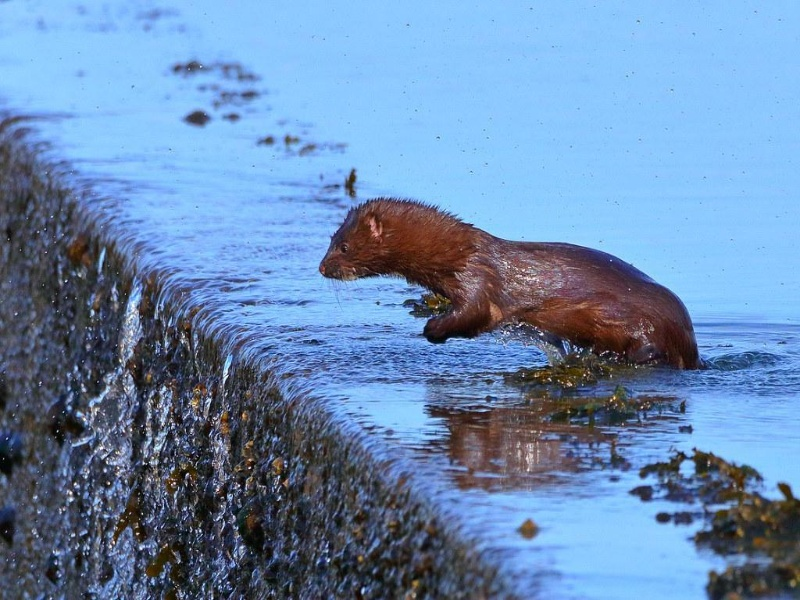minkish: (317, 197, 703, 376)
